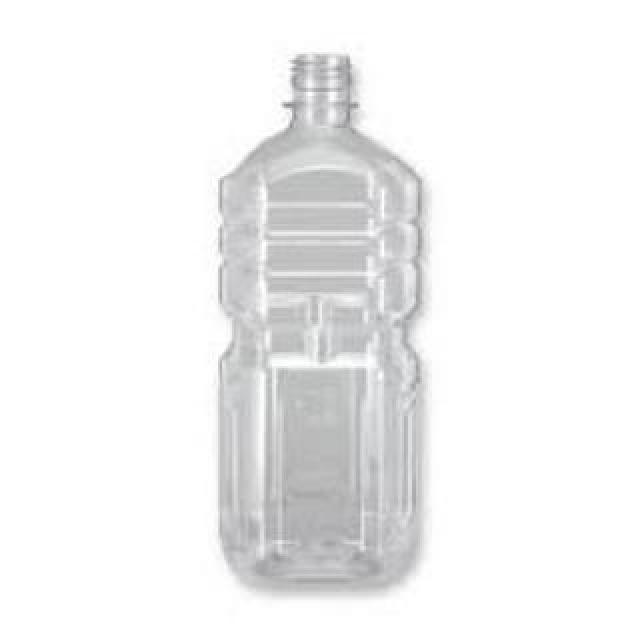Pet_Bottle: (212, 49, 424, 603)
